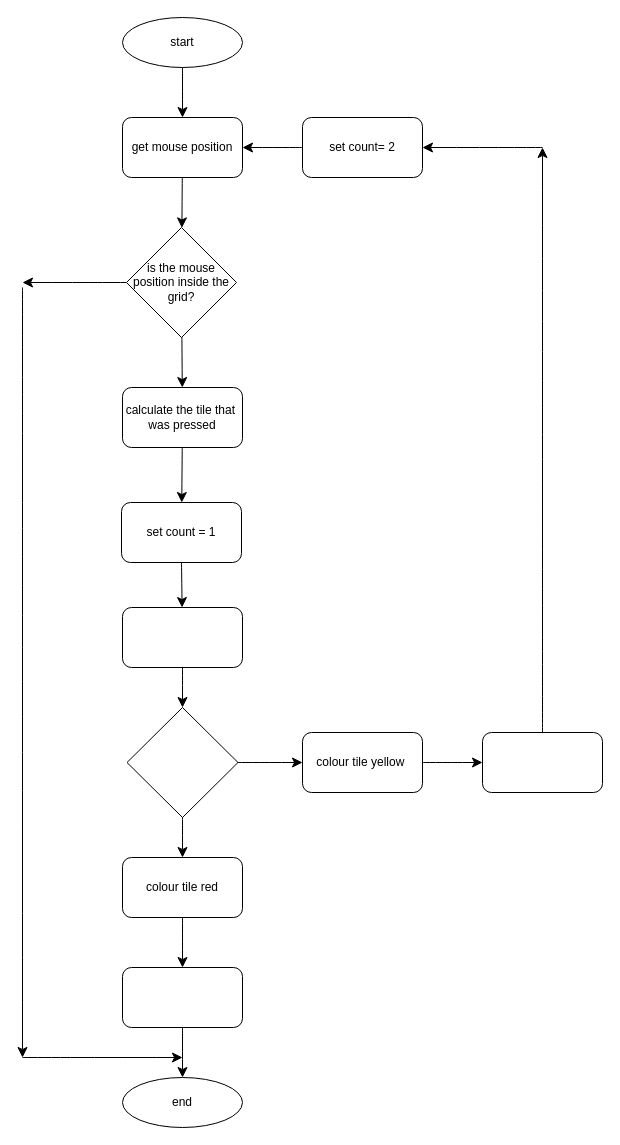
The diagram is 620 pixels wide and 1145 high, and some of its shapes have lost their labels. Each missing label, with the centre of its shape:
"go to top left of tile that has been clicked on" belongs at point 182,637.
"is count = 2?" belongs at point 182,762.
"store position as finish" belongs at point 182,997.
"store position of tile as start" belongs at point 542,762.
